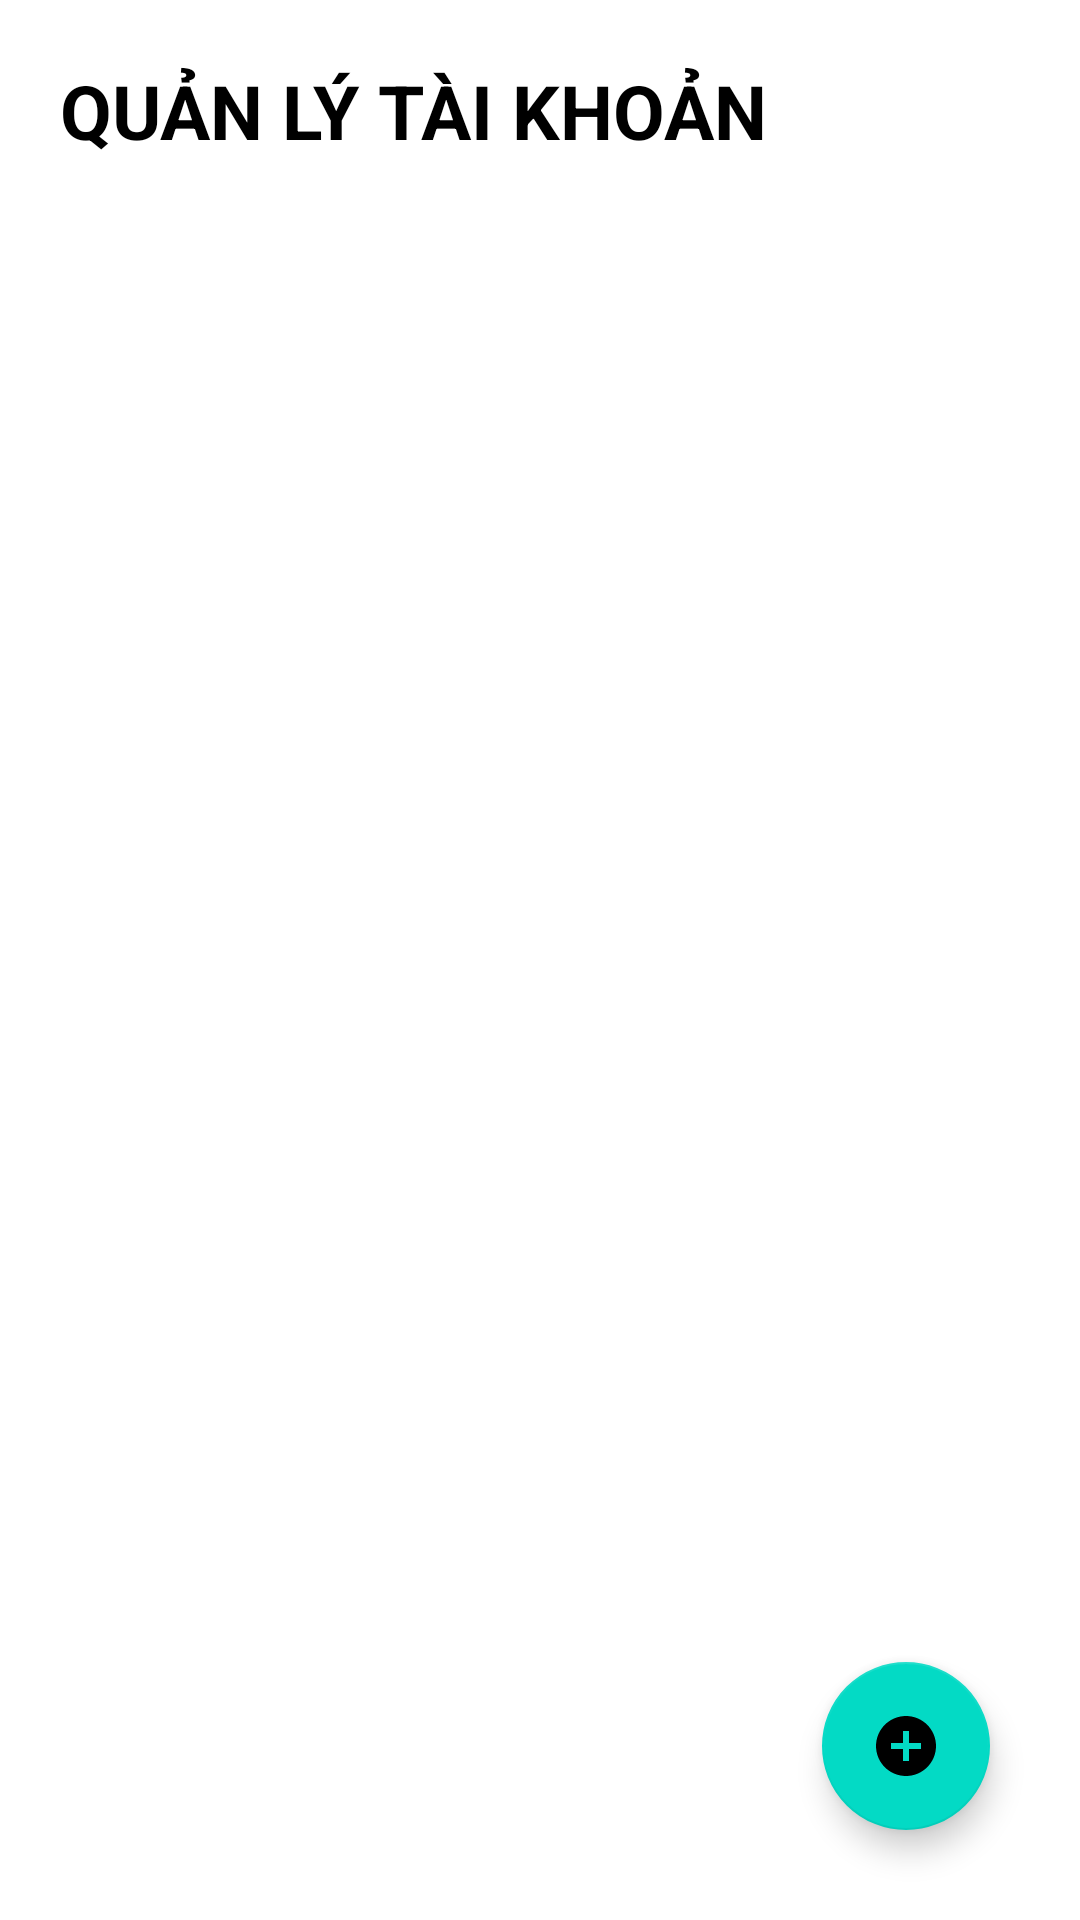

Icons on this 1080 x 1920 Android screen, each with the point to tap as (x=x, y=y):
add circle: (x=906, y=1746)
